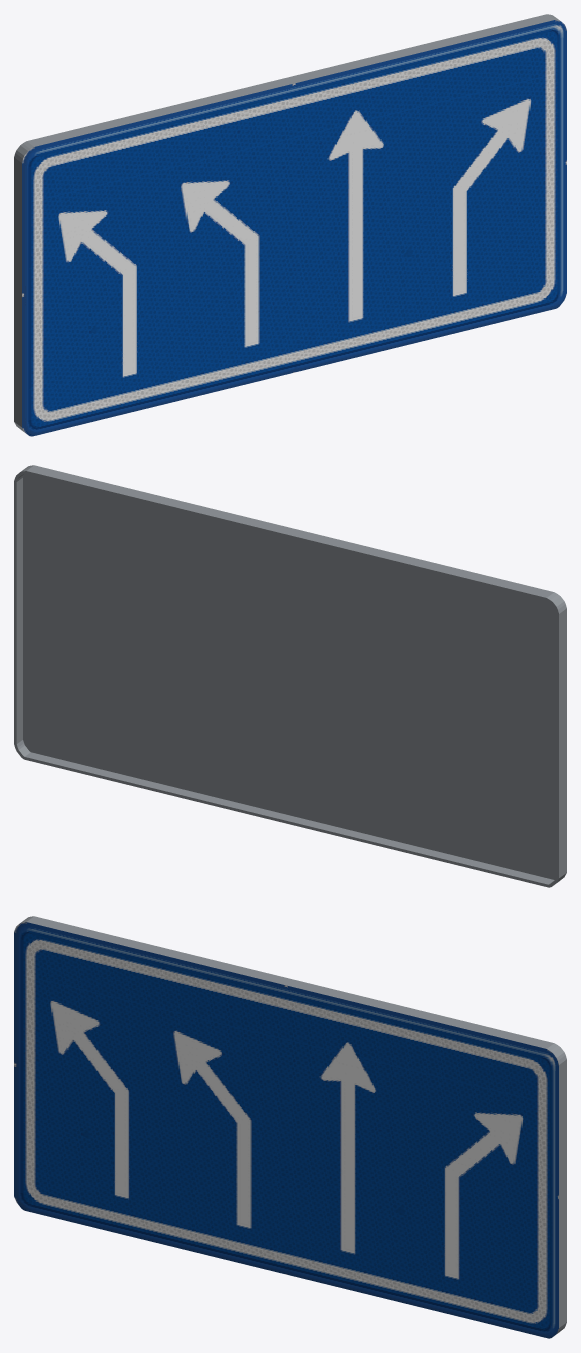
The picture shows the model from 3 angles, top to bottom: view 1: azimuth 30°, elevation 25°; view 2: azimuth 150°, elevation 25°; view 3: azimuth 330°, elevation 25°; orthographic projection.
Visible parts, largest first — view 1: cat_14abf99328acd033; view 2: cat_14abf99328acd033; view 3: cat_14abf99328acd033.
Part boxes in pixels (<box>): cat_14abf99328acd033: <box>14,14,566,436</box>; cat_14abf99328acd033: <box>14,465,566,887</box>; cat_14abf99328acd033: <box>14,916,566,1338</box>.
Size of the model in its own units: 0.6 by 0.015 by 0.3041.
Materials: 2 (1 with a texture image).
